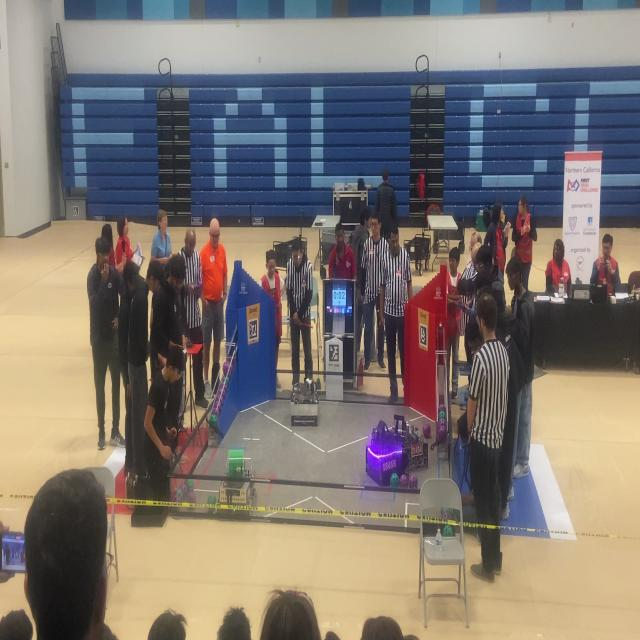artifact_green: (442, 525, 453, 537), (209, 413, 217, 428), (175, 488, 183, 502), (207, 494, 216, 505), (179, 483, 187, 495), (186, 480, 194, 491), (438, 411, 445, 419), (223, 376, 229, 385)
artifact_purple: (437, 420, 446, 442), (209, 412, 218, 429), (399, 474, 409, 488), (214, 406, 221, 425), (185, 491, 196, 503), (390, 473, 399, 487), (175, 488, 183, 502), (227, 362, 234, 378), (213, 405, 220, 421), (409, 475, 417, 489), (213, 398, 220, 413), (214, 401, 221, 416), (423, 424, 430, 439), (179, 483, 187, 495), (212, 398, 218, 413), (228, 362, 234, 377), (215, 388, 221, 403), (371, 428, 379, 439), (222, 376, 229, 388), (223, 379, 229, 393), (223, 361, 229, 375), (438, 419, 446, 429), (227, 368, 233, 381), (223, 384, 229, 396), (438, 411, 446, 420), (220, 394, 225, 407), (172, 493, 179, 502), (219, 382, 224, 394), (219, 386, 224, 398), (222, 387, 226, 400), (439, 404, 445, 412)
